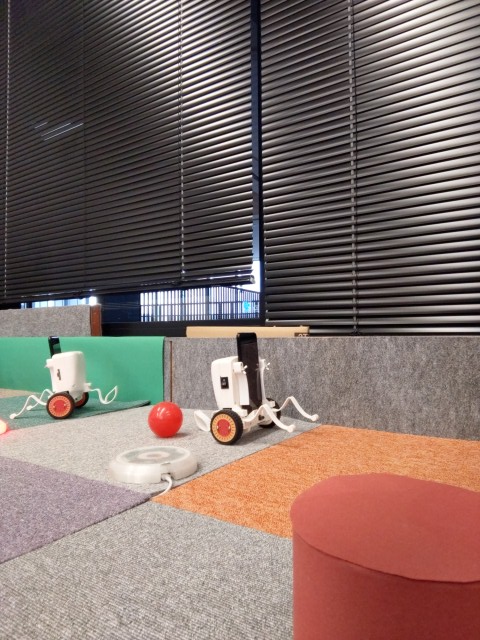bl: (7, 332, 124, 422)
br: (193, 328, 318, 447)
o: (109, 443, 199, 486)
